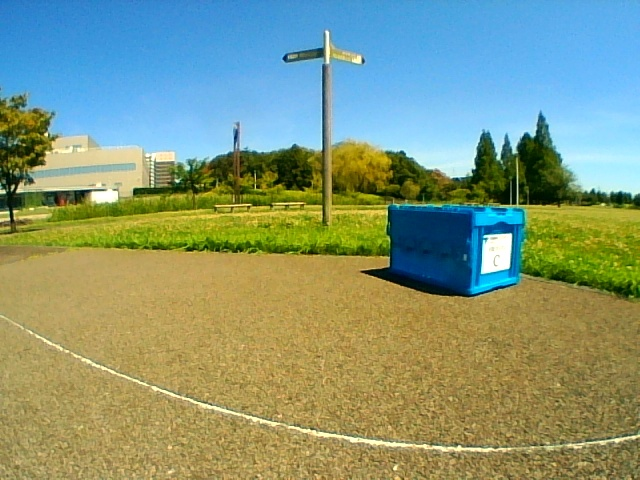blue_box: (390, 206, 520, 278)
tag_c: (485, 235, 508, 271)
